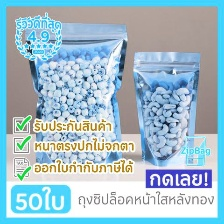snack: (18, 17, 131, 175), (128, 45, 206, 169)
